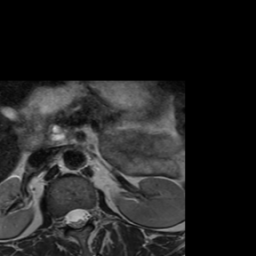CCS_normal: (74, 199, 82, 237)
LFS_normal: (90, 198, 100, 228)
LLS_normal: (82, 199, 90, 230)
RFS_normal: (57, 206, 65, 234)
RLS_normal: (65, 204, 74, 233)
